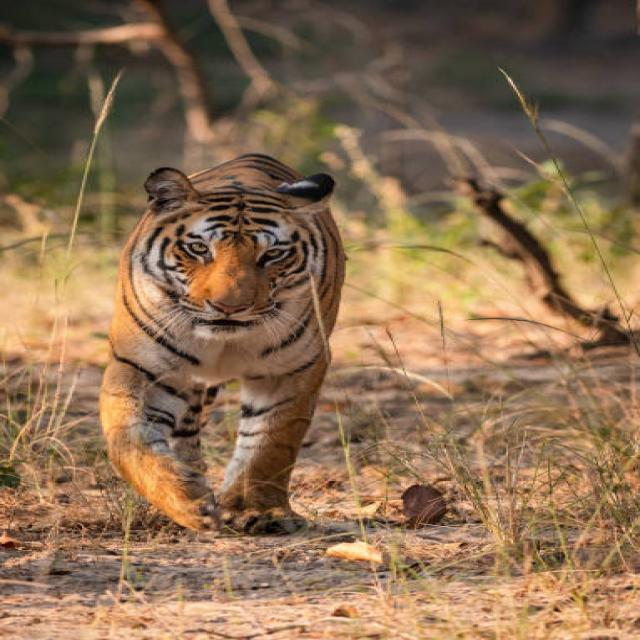not_pig: (97, 152, 347, 534)
